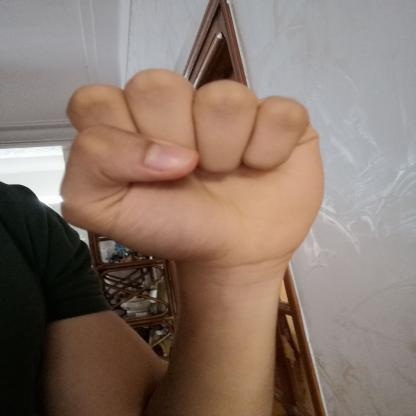SAD: (27, 54, 342, 286)
